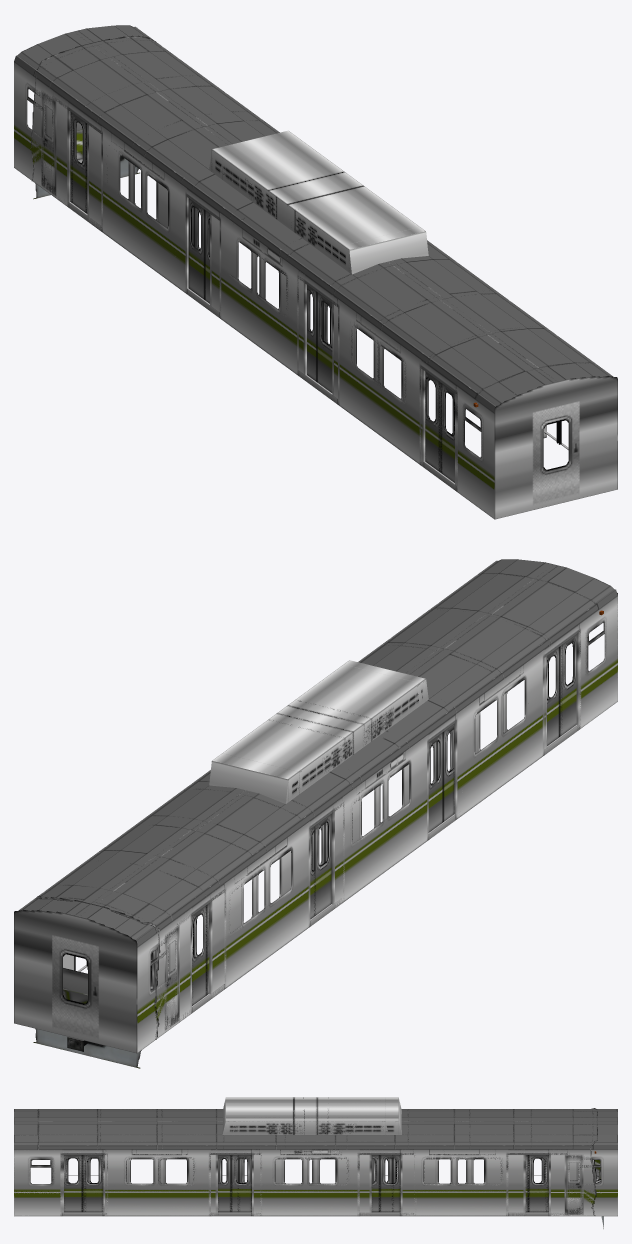
3 views of the same model, one above another, from view 1: azimuth 30°, elevation 25°; view 2: azimuth 150°, elevation 25°; view 3: azimuth 270°, elevation 25° (orthographic). The views are drawn at different scales.
Visible parts, largest first — view 1: cab-shell-0, trailer-shell-5, cab-left-4, trailer-left-7, cab-left-2, trailer-left-9; view 2: trailer-shell-5, cab-shell-0, cab-left-4, trailer-left-7, cab-left-2, trailer-left-9; view 3: cab-shell-0, trailer-shell-5, cab-right-1, trailer-right-8, cab-right-3, trailer-right-6.
Part boxes in pixels (box(x1,y1,x2,y2)): cab-shell-0: box(29, 35, 617, 519); trailer-shell-5: box(14, 25, 610, 517); cab-left-4: box(70, 112, 441, 472); trailer-left-7: box(72, 114, 453, 475); cab-left-2: box(86, 124, 454, 482); trailer-left-9: box(70, 112, 439, 471); trailer-shell-5: box(14, 559, 617, 1053); cab-shell-0: box(33, 559, 617, 1068); cab-left-4: box(192, 655, 561, 1005); trailer-left-7: box(193, 642, 574, 1003); cab-left-2: box(206, 634, 576, 994); trailer-left-9: box(312, 647, 559, 916); cab-shell-0: box(14, 1097, 603, 1228); trailer-shell-5: box(14, 1097, 617, 1216); cab-right-1: box(82, 1155, 548, 1212); trailer-right-8: box(64, 1155, 546, 1212); cab-right-3: box(64, 1155, 528, 1212); trailer-right-6: box(85, 1155, 548, 1212).
Size of the model in its own units: 3.02 by 3.62 by 19.
Materials: 1 (1 with a texture image).
